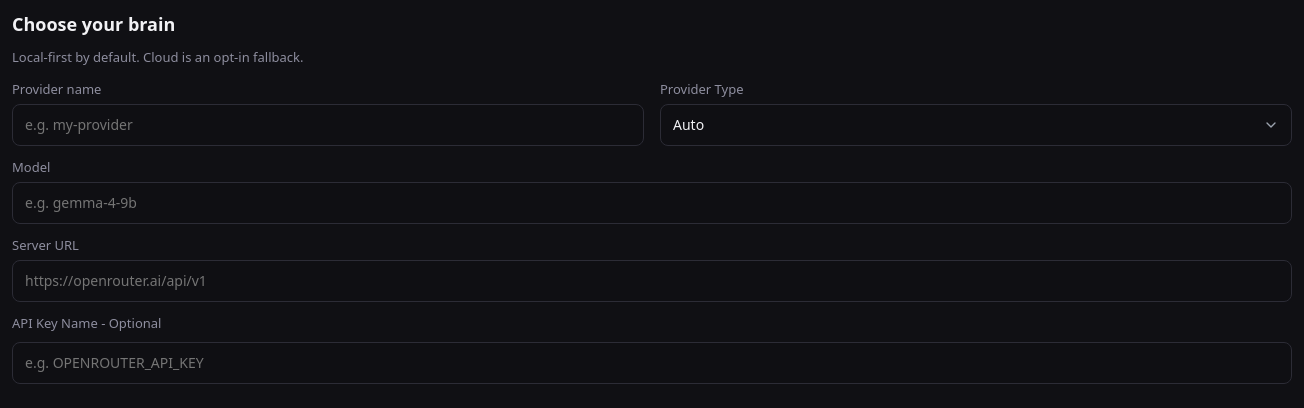
Test: BrainStep › immediately shows Not Set pill plus Store Key on typing
Check: the text "Not Set in Keychain" is not shown
Type "MY_KEY" into the field with test id "brain-api-key-env" at (652, 362), box [12,342,1292,384]
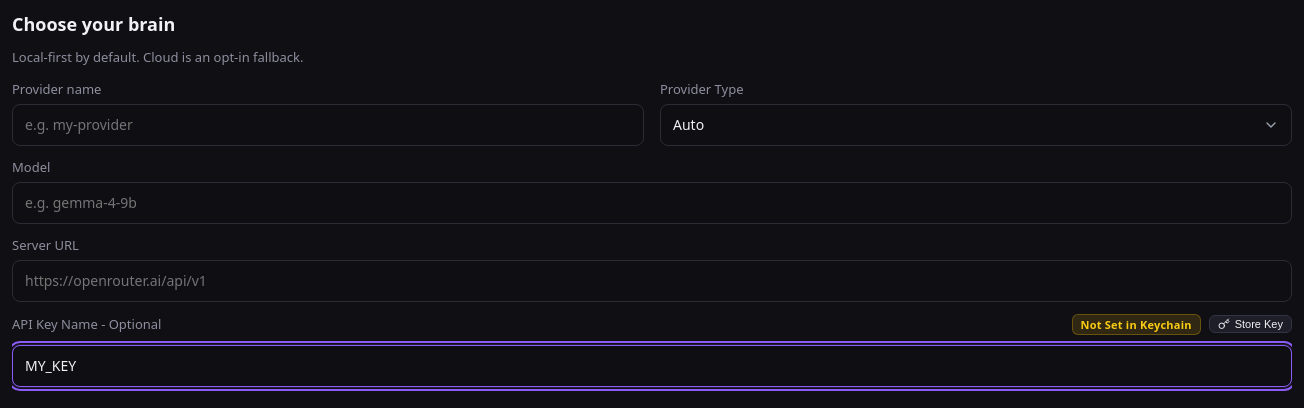
Check: the text "Not Set in Keychain" is shown, box [1072,314,1201,334]
Check: the button "Store Key" is shown, box [1209,315,1292,333]
